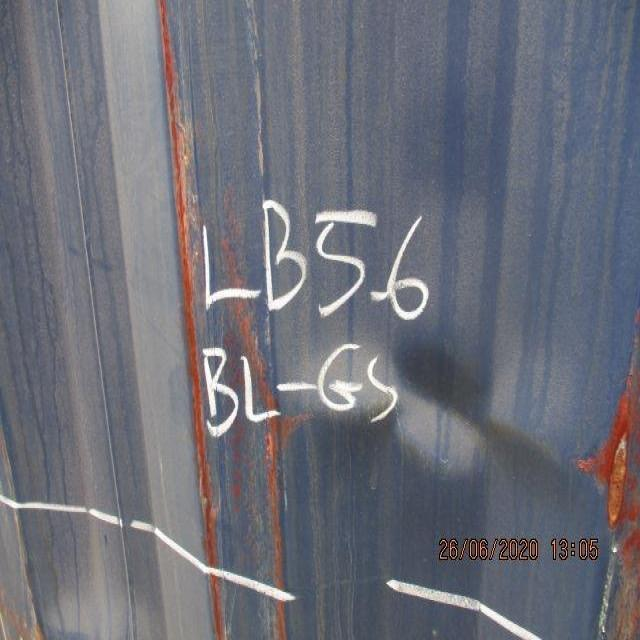dent: (177, 282, 634, 529)
